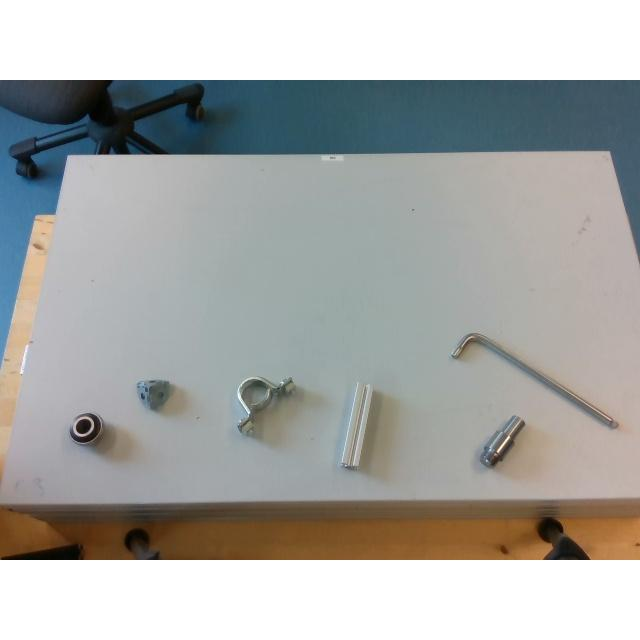AllenKey: (450, 332, 618, 428)
Axis2: (480, 415, 524, 467)
Bearing2: (70, 412, 102, 443)
F20_20_G: (340, 382, 372, 470)
Housing: (236, 376, 294, 432)
